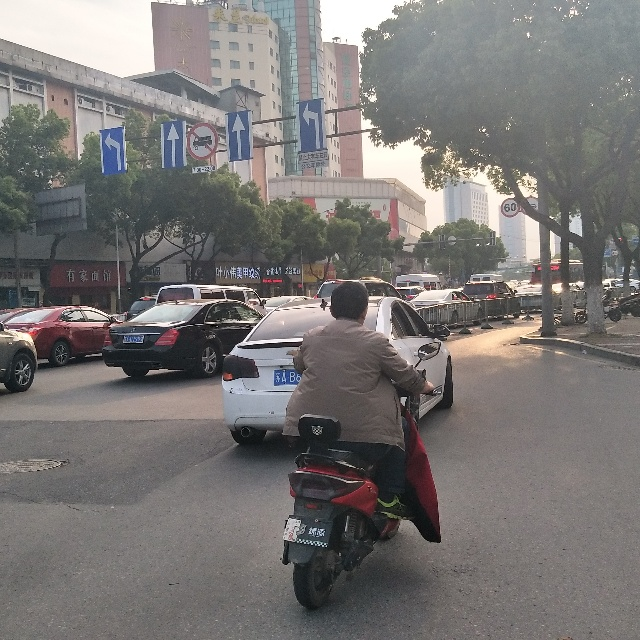left: (297, 100, 326, 152), (102, 127, 127, 168)
straight: (158, 119, 186, 162), (230, 112, 250, 159)
